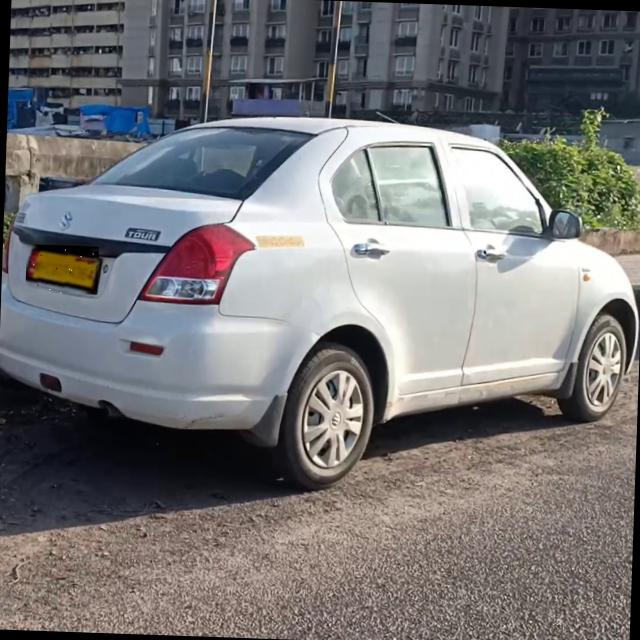Plate: (26, 245, 100, 295)
